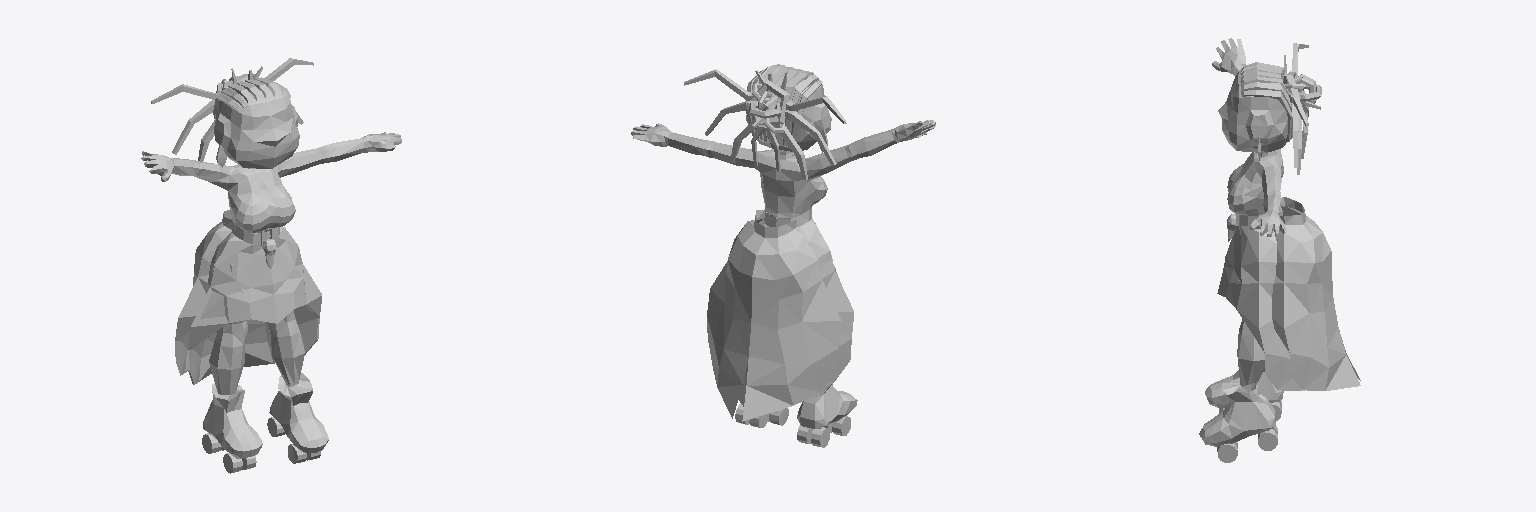
File: WitchFINAL_000189.obj
The picture shows the model from 3 angles: view 1: azimuth 30°, elevation 25°; view 2: azimuth 150°, elevation 25°; view 3: azimuth 270°, elevation 25°; orthographic projection.
Parts seen in each view (by area): view 1: Body_Cylinder, Torso(Boobies)_Cylinder.002, LegR_Cube.004, LegL_Cube.003, Head_Cylinder.004, ZBody_Cylinder.001, Hair_Cylinder.006, Tail.001_Torus.001; view 2: ZBody_Cylinder.001, Torso(Boobies)_Cylinder.002, Body_Cylinder, LegR_Cube.004, Hair_Cylinder.006, Tail.001_Torus.001, Tail_Torus, Tail.002_Torus.002, Head_Cylinder.004, LegL_Cube.003; view 3: ZBody_Cylinder.001, Body_Cylinder, LegL_Cube.003, Torso(Boobies)_Cylinder.002, Head_Cylinder.004, Hair_Cylinder.006, LegR_Cube.004, Tail_Torus, Tail.002_Torus.002.
Part boxes in pixels (x1,y1,x2,y2): Body_Cylinder: (187, 223, 321, 384); Torso(Boobies)_Cylinder.002: (141, 132, 401, 233); LegR_Cube.004: (202, 264, 262, 473); LegL_Cube.003: (267, 275, 328, 463); Head_Cylinder.004: (214, 80, 299, 168); ZBody_Cylinder.001: (175, 210, 232, 375); Hair_Cylinder.006: (213, 77, 290, 118); Tail.001_Torus.001: (151, 84, 220, 161); ZBody_Cylinder.001: (707, 209, 841, 421); Torso(Boobies)_Cylinder.002: (631, 120, 935, 218); Body_Cylinder: (739, 208, 853, 406); LegR_Cube.004: (797, 384, 857, 447); Hair_Cylinder.006: (746, 64, 822, 147); Tail.001_Torus.001: (764, 96, 846, 179); Tail_Torus: (749, 70, 789, 132); Tail.002_Torus.002: (684, 69, 764, 166); Head_Cylinder.004: (746, 73, 831, 151); LegL_Cube.003: (735, 399, 788, 427); ZBody_Cylinder.001: (1272, 197, 1360, 390); Body_Cylinder: (1217, 210, 1305, 390); LegL_Cube.003: (1199, 279, 1277, 462); Torso(Boobies)_Cylinder.002: (1212, 38, 1286, 236); Head_Cylinder.004: (1218, 69, 1289, 152); Hair_Cylinder.006: (1240, 62, 1299, 141); LegR_Cube.004: (1205, 369, 1283, 420); Tail_Torus: (1281, 55, 1321, 113); Tail.002_Torus.002: (1289, 93, 1308, 174).
Bounding box in the file's own units: 12.87 × 16.8 × 6.49.